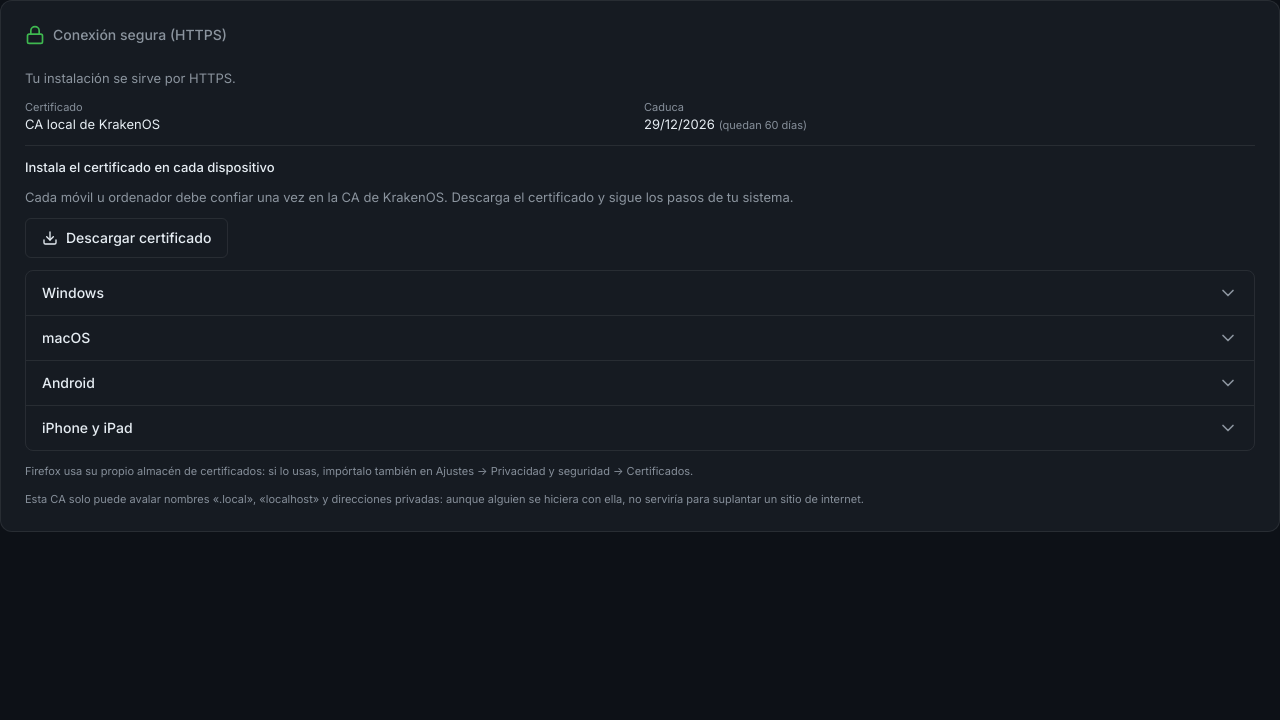
Scenario: TlsCard (US-241) › CA local de KrakenOS › da los pasos de los cuatro sistemas, con el de confianza de iOS
Expected: the link "Descargar certificado" is shown, [25, 218, 228, 258]
Expected: the button "Windows" is shown, [26, 271, 1254, 315]
Click the button "iPhone y iPad" at (87, 428), box [26, 406, 1254, 450]
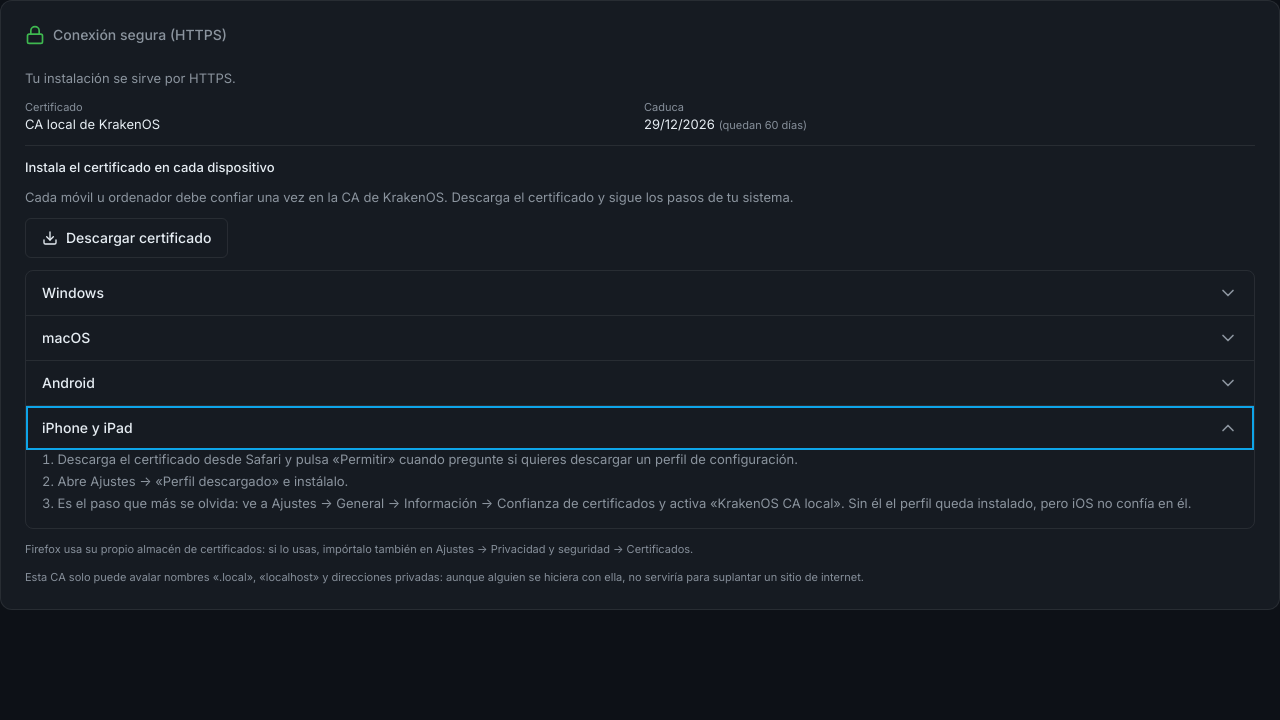
Result: the list item "Confianza de certificados" is shown at [57, 495, 1192, 511]
